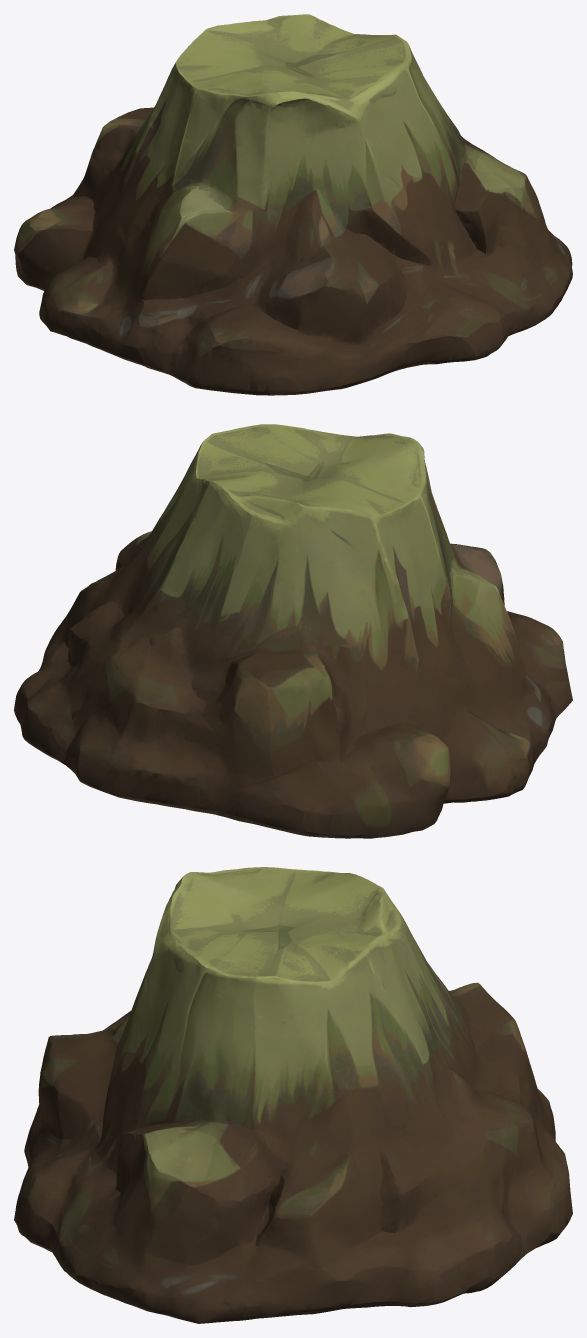
File: item_mud_clump.glb
3 views of the same model, one above another, from view 1: azimuth 30°, elevation 25°; view 2: azimuth 150°, elevation 25°; view 3: azimuth 270°, elevation 25° (orthographic). The views are drawn at different scales.
Visible parts, largest first — view 1: item_mud_clump; view 2: item_mud_clump; view 3: item_mud_clump.
Part boxes in pixels (x1,y1,x2,y2): item_mud_clump: (14, 14, 572, 395); item_mud_clump: (14, 424, 572, 838); item_mud_clump: (14, 867, 572, 1323).
Size of the model in its own units: 0.2 by 0.1014 by 0.1808.
1 material, 1 textured.
